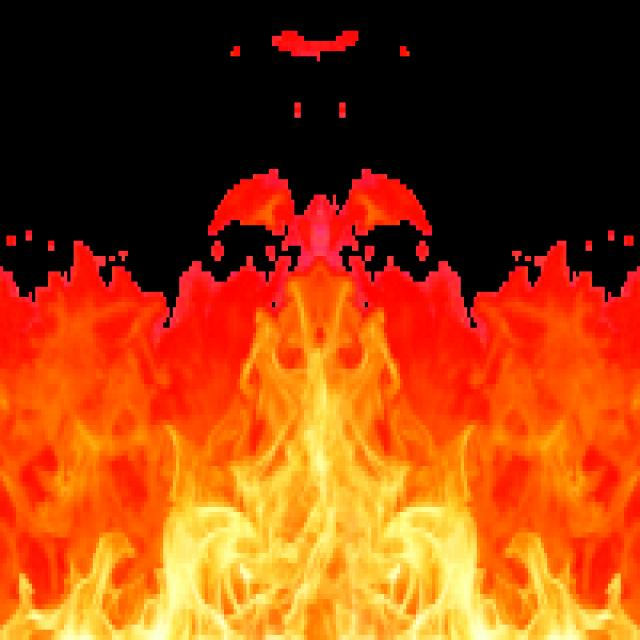fire: (3, 286, 640, 640)
